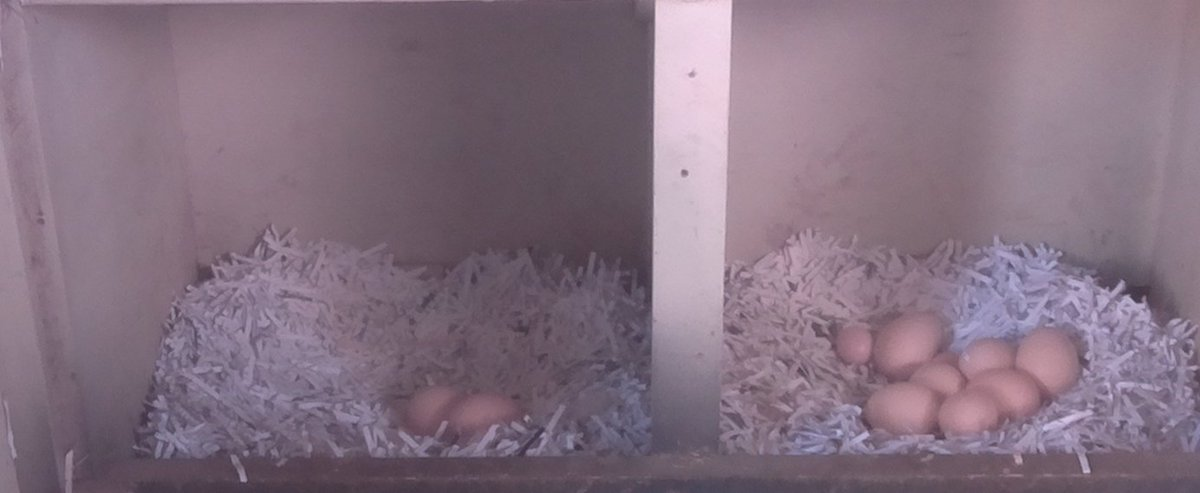egg: (1011, 325, 1085, 404), (868, 312, 947, 377), (861, 379, 940, 442), (968, 365, 1048, 425), (442, 390, 525, 437), (935, 387, 1004, 442), (404, 381, 470, 435), (951, 335, 1017, 374), (905, 362, 968, 399), (831, 320, 875, 368), (928, 348, 966, 374)
